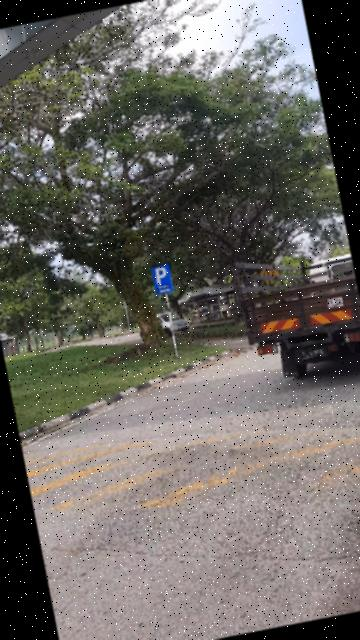License_Plate: (299, 346, 328, 362)
lorry: (230, 235, 360, 394)
